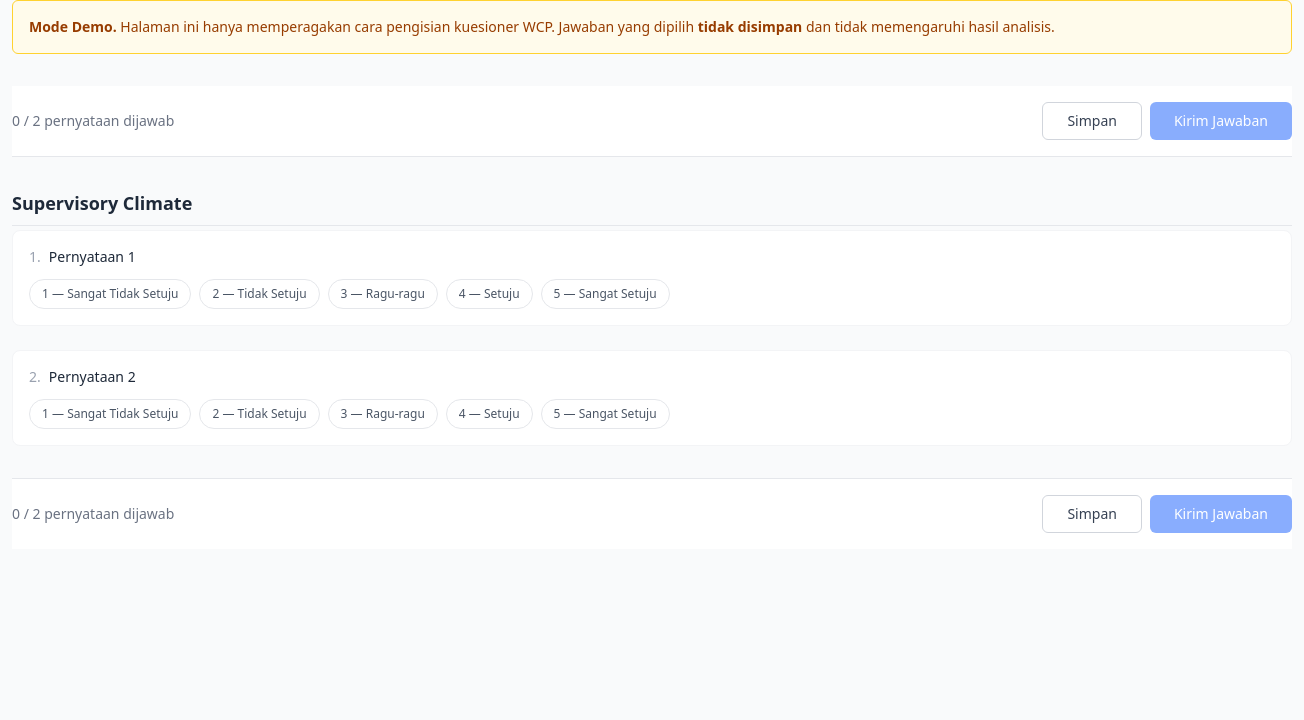
Test: WcpForm — mode demo tidak menyentuh backend › Simpan di mode demo → pesan draft-tidak-disimpan, TANPA PUT
Click the 1st button "Simpan" at [1092, 121], box [1042,102,1142,140]
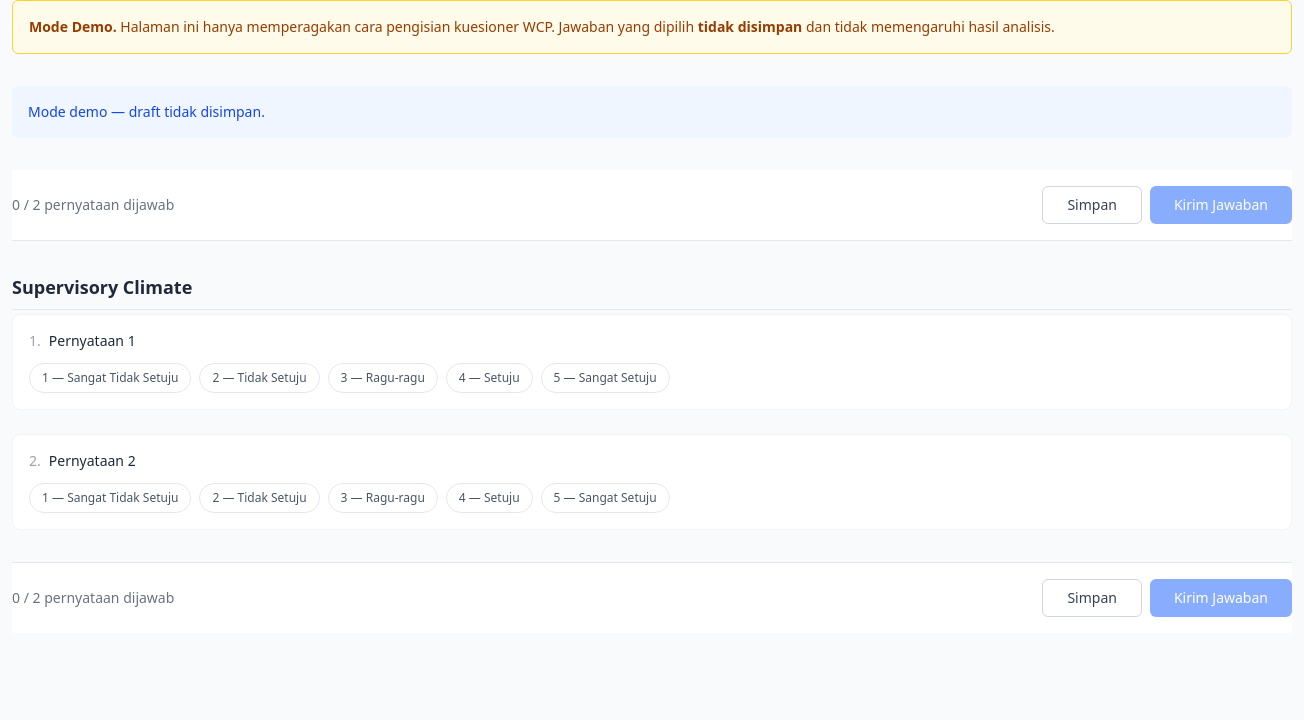
Check: the text "Mode demo — draft tidak disimpan." is shown, box [12,86,1292,138]
